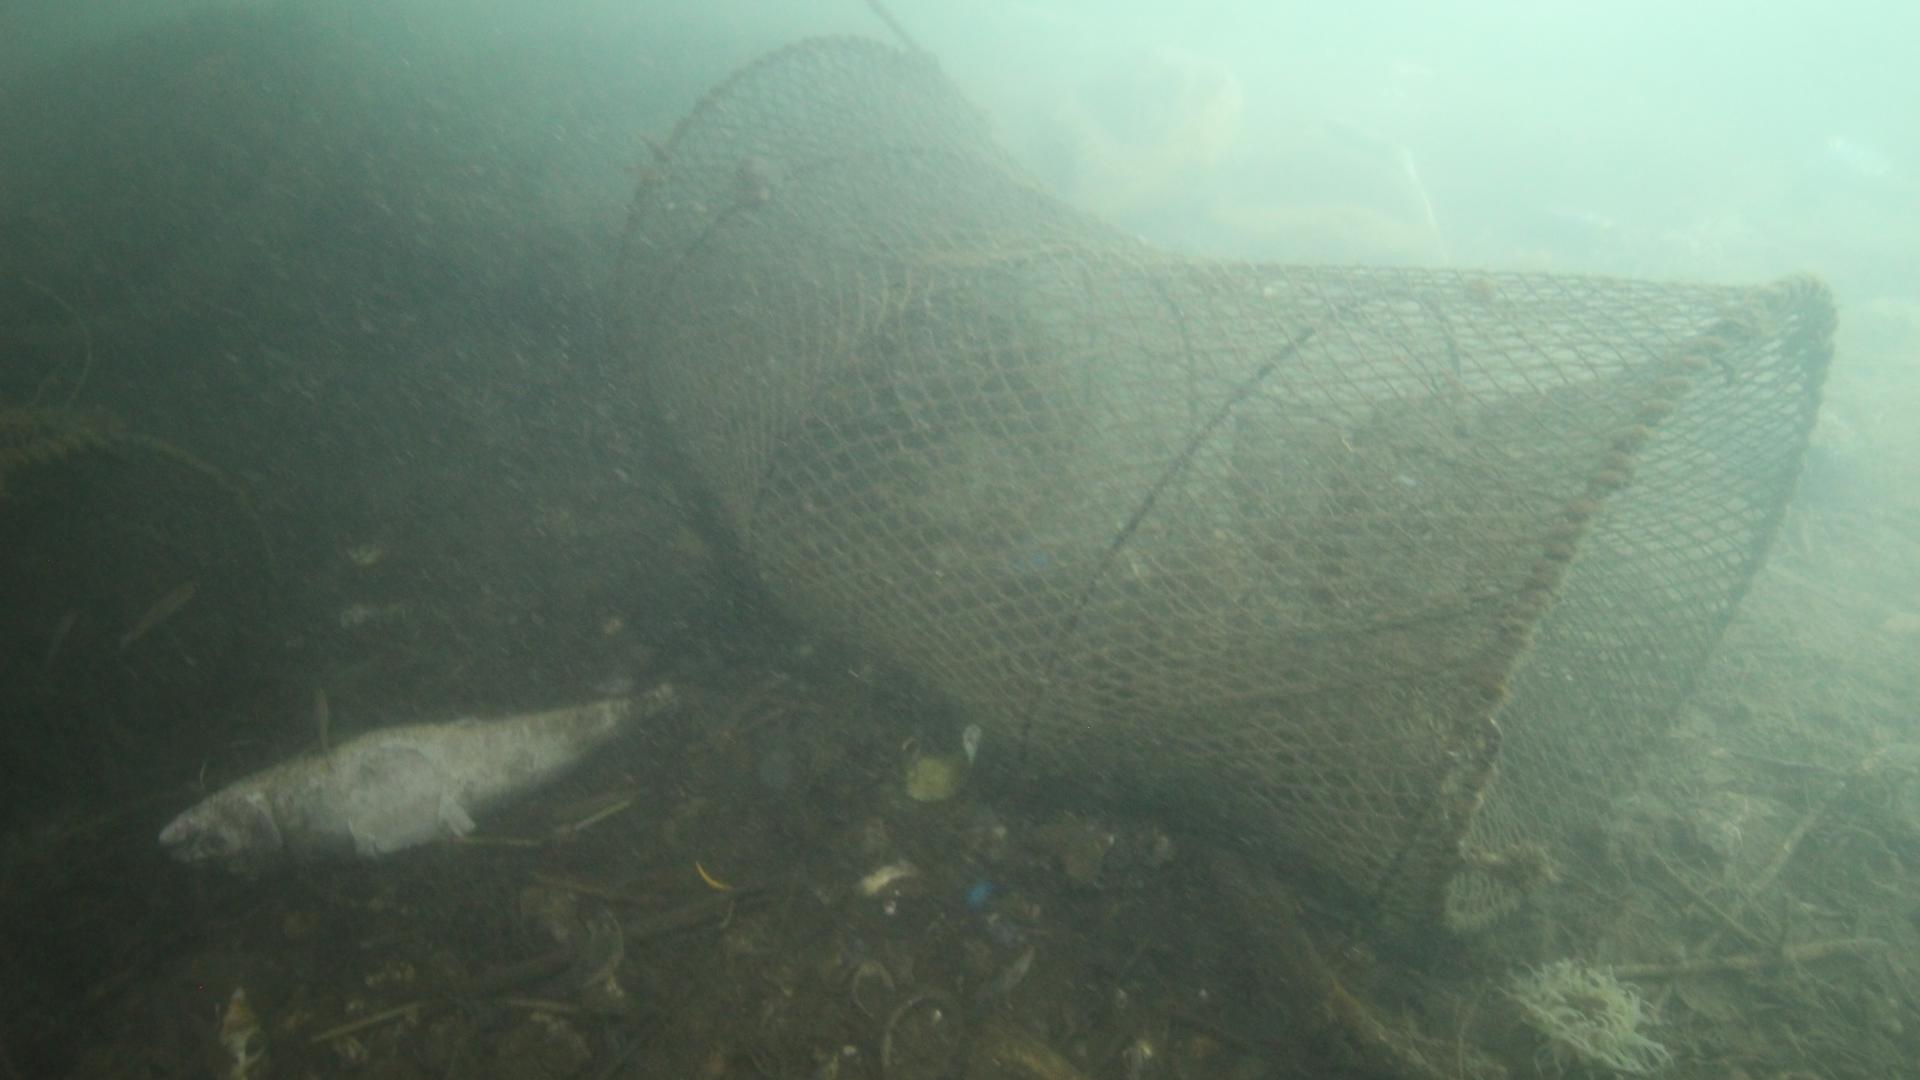spring fish trap: (607, 30, 1836, 939)
